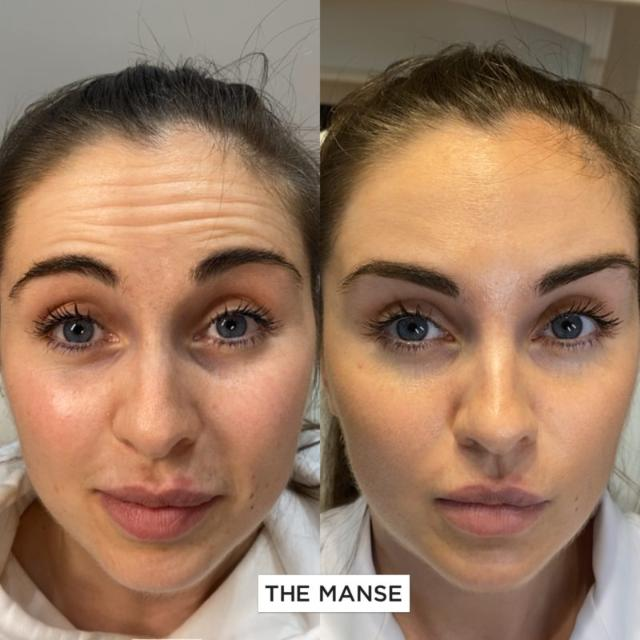forehead: (192, 186, 268, 248), (111, 187, 179, 237), (50, 222, 104, 254)
